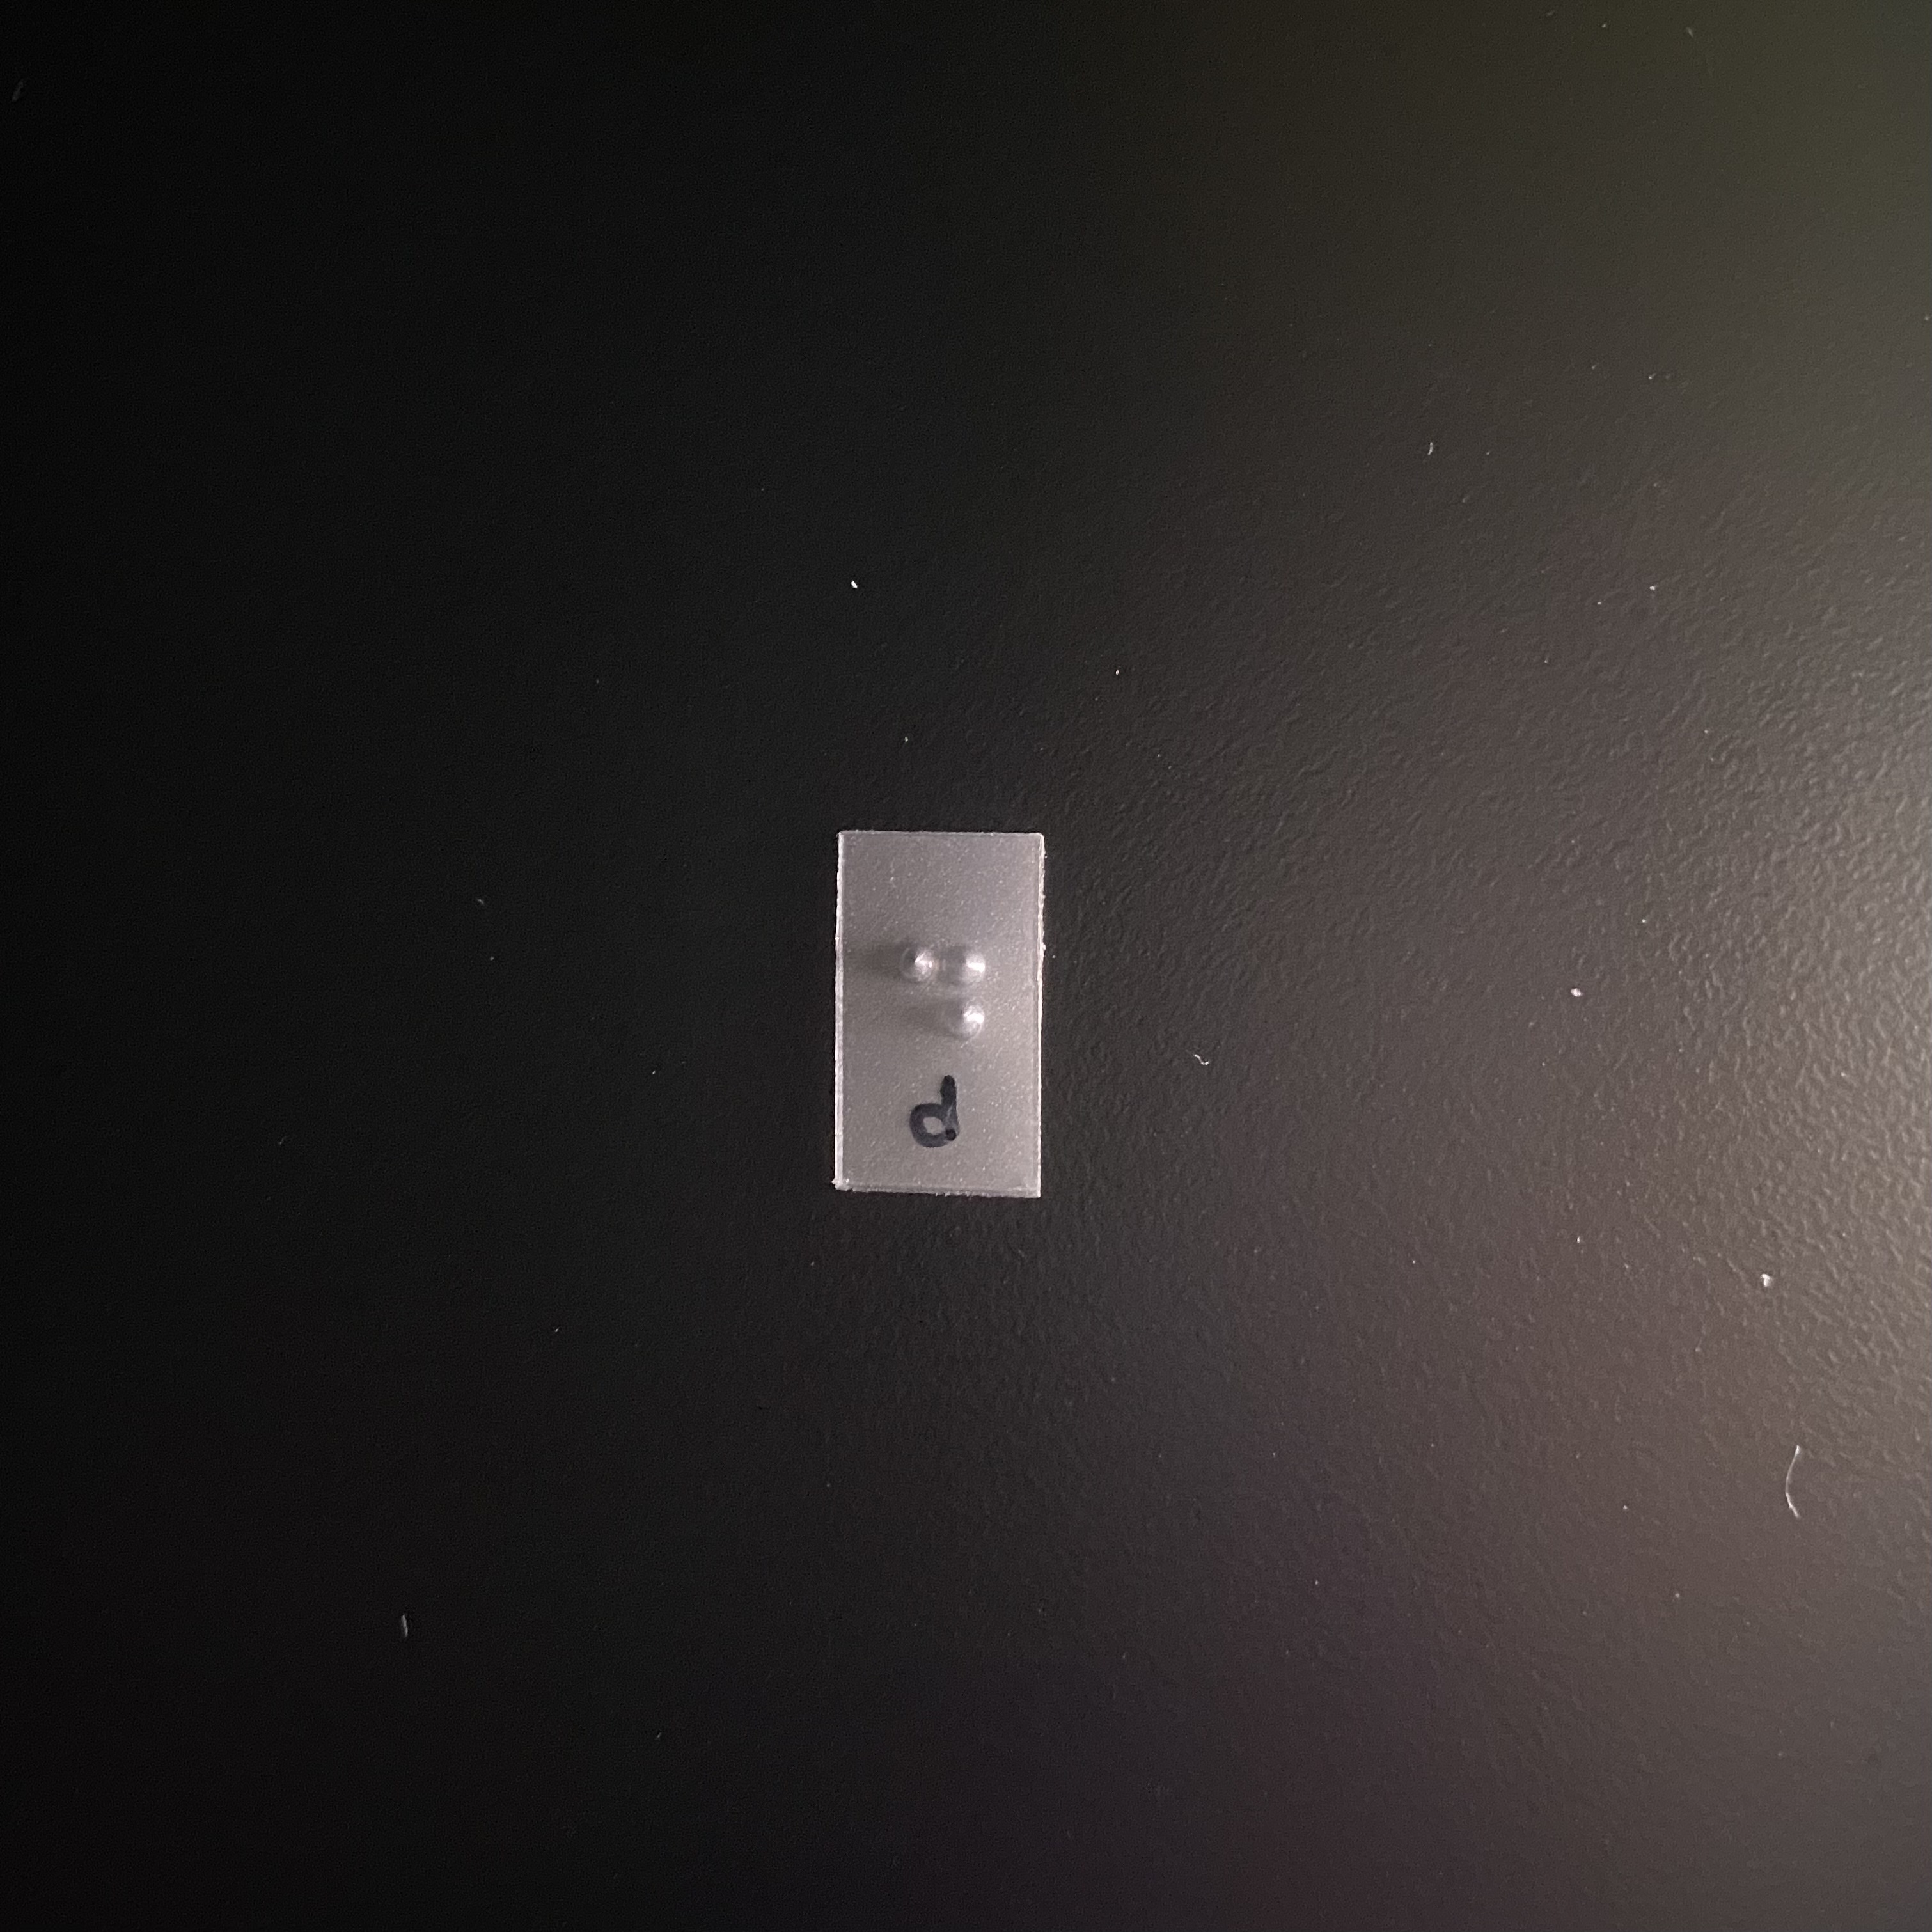d: (871, 920, 999, 1136)
